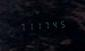five: (58, 18, 65, 29)
four: (50, 19, 57, 29)
one: (34, 20, 41, 31), (25, 21, 32, 31)
seven: (17, 21, 24, 32), (42, 20, 49, 30)
